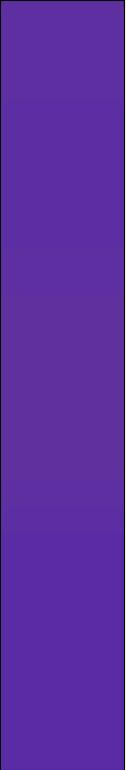safe: (10, 14, 112, 760)
